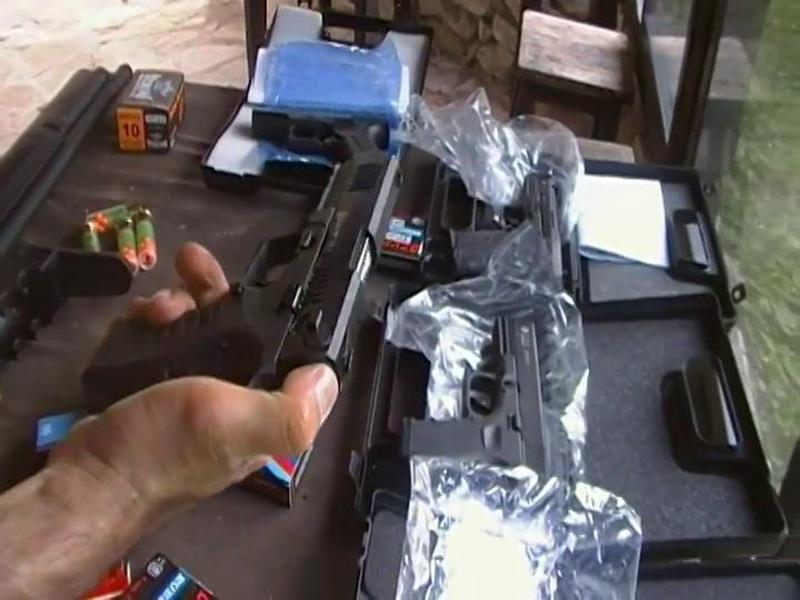Pistola: (90, 145, 414, 379)
